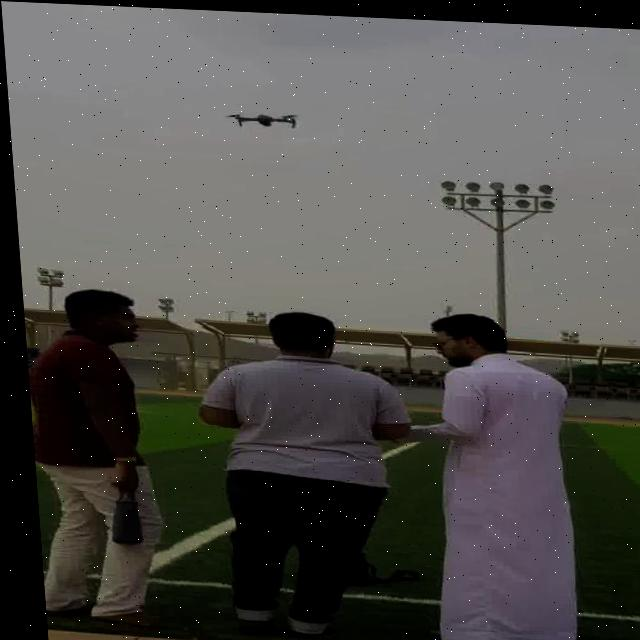drone: (221, 103, 308, 131)
